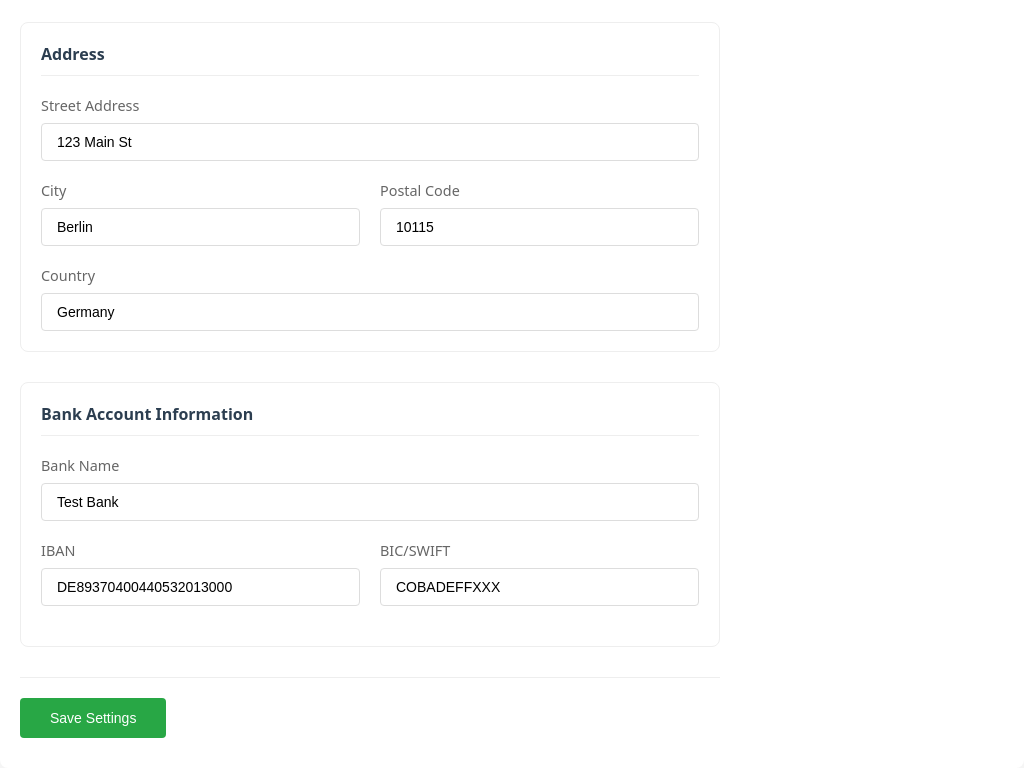
Test case: Settings.vue › displays error message on save failure
(page scrolled)
Click the button with test id "save-core-settings-button" at (93, 718), box [20,698,166,738]
(page scrolled)
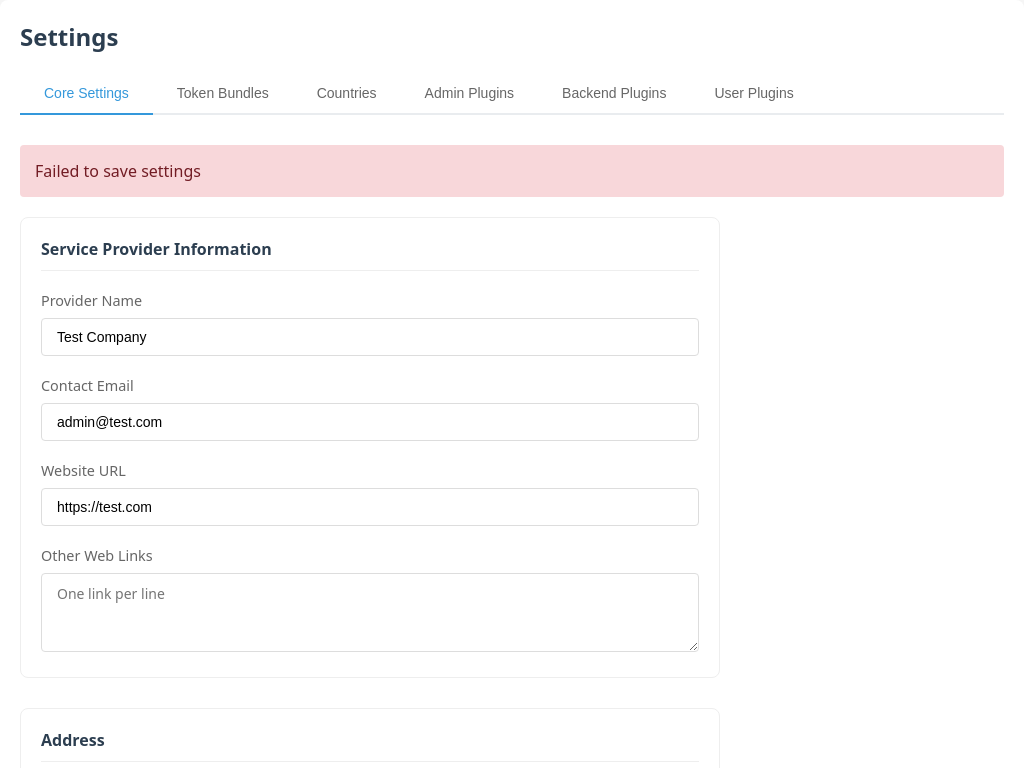
Expected: the text "Failed to save settings" is shown, [20,145,1004,197]
